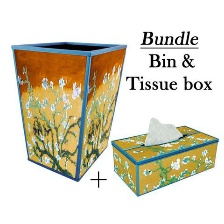tissue: (137, 113, 186, 149)
